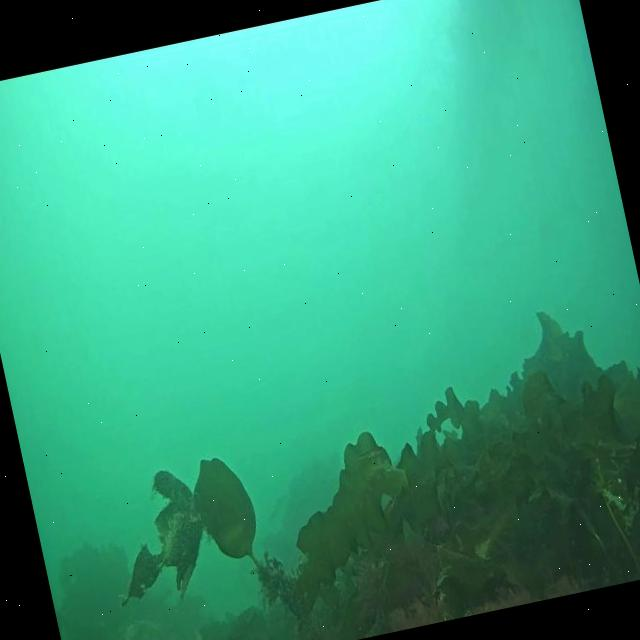fish: (356, 445, 384, 463)
